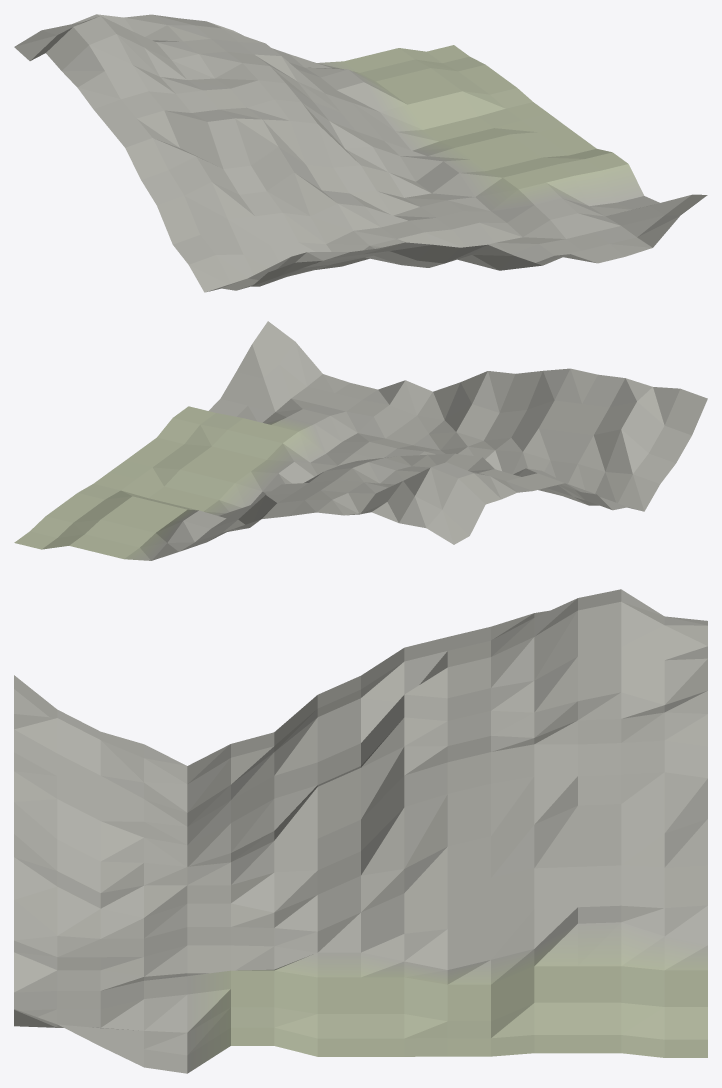
3 renders of one model, top to bottom at view 1: azimuth 30°, elevation 25°; view 2: azimuth 150°, elevation 25°; view 3: azimuth 270°, elevation 25°, orthographic. The views are drawn at different scales.
Bounding box in the file's own units: 32 × 10.96 × 32.
